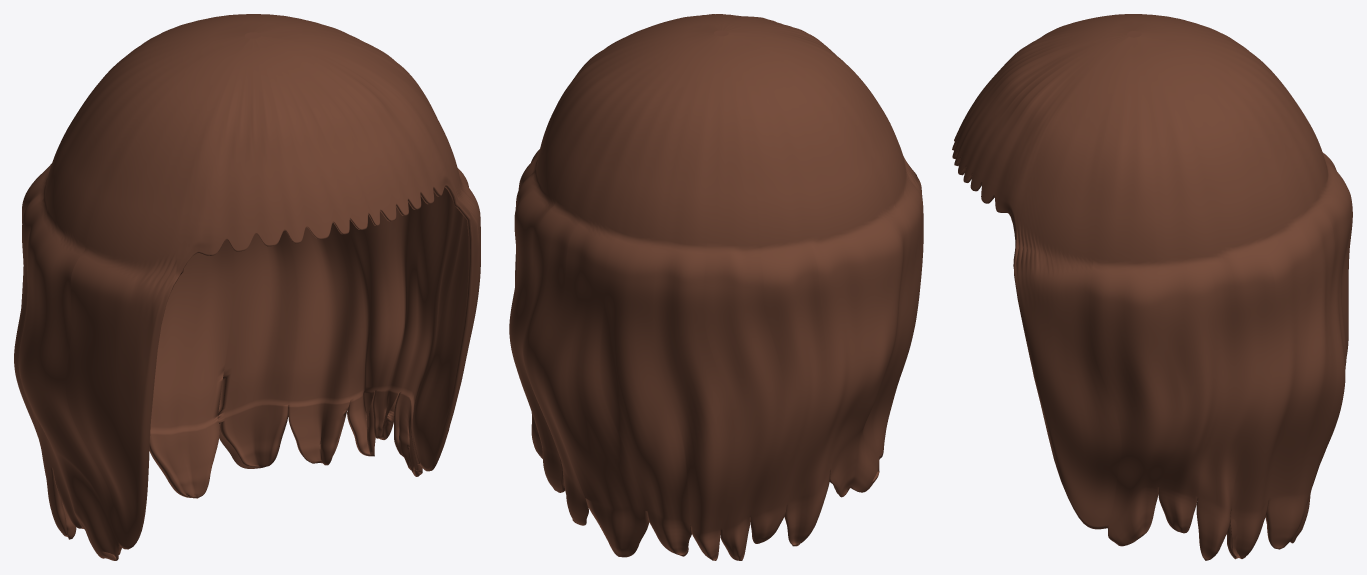
Rendered from long-beanie.glb.
The picture shows the model from 3 angles, left to right: view 1: azimuth 30°, elevation 25°; view 2: azimuth 150°, elevation 25°; view 3: azimuth 270°, elevation 25°; orthographic projection. The views are drawn at different scales.
Parts seen in each view (by area): view 1: Hair / rounded long fringe; view 2: Hair / rounded long fringe; view 3: Hair / rounded long fringe.
Boxes of the visible parts, <box> form: Hair / rounded long fringe: <box>14,14,480,560</box>; Hair / rounded long fringe: <box>509,14,923,560</box>; Hair / rounded long fringe: <box>952,14,1352,560</box>.
Bounding box in the file's own units: 0.8536 × 1.06 × 0.7734.
